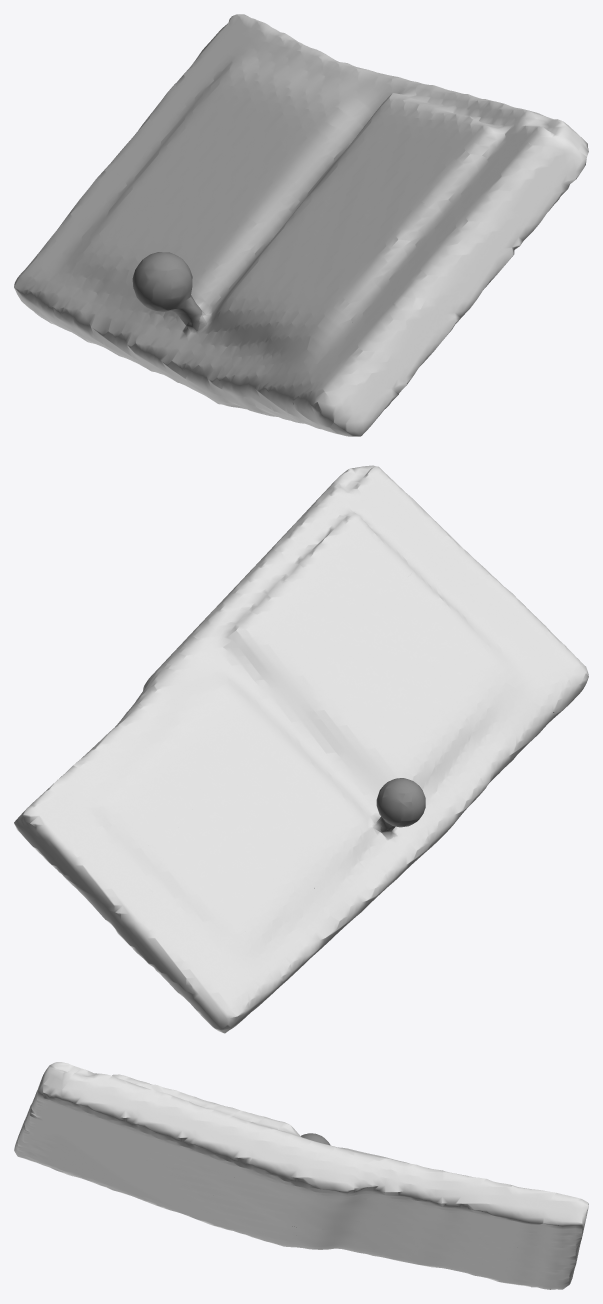
File: princess-door.gltf
3 views of the same model, one above another, from view 1: azimuth 30°, elevation 25°; view 2: azimuth 150°, elevation 25°; view 3: azimuth 270°, elevation 25° (orthographic). The views are drawn at different scales.
Parts seen in each view (by area): view 1: door; view 2: door; view 3: door.
Boxes of the visible parts, x1,y1,x2,y2 form: door: [14, 14, 588, 436]; door: [14, 465, 588, 1033]; door: [14, 1062, 588, 1289].
Bounding box in the file's own units: 32.02 × 37.19 × 68.06.
1 material, 1 textured.
